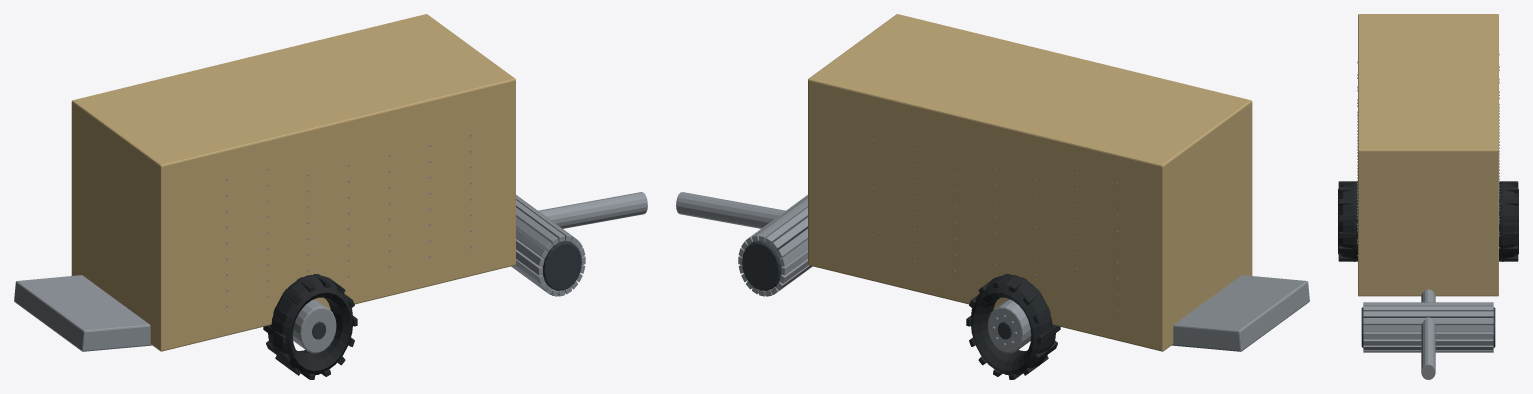
Rendered from new-holland-bigbaler-340-high-density-cropcutter-structural-study.glb.
3 views of the same model, side by side, from view 1: azimuth 30°, elevation 25°; view 2: azimuth 150°, elevation 25°; view 3: azimuth 270°, elevation 25° (orthographic). The views are drawn at different scales.
Visible parts, largest first — view 1: Bale_Chamber, Bale_Chute, Baler_R_Tire, Drawbar_Tube, Pickup_Reel, Baler_R_Rim; view 2: Bale_Chamber, Bale_Chute, Baler_L_Tire, Drawbar_Tube, Pickup_Reel, Baler_L_Rim; view 3: Bale_Chamber, Baler_L_Tire, Baler_R_Tire, Drawbar_Tube, Pickup_Tine_03, Pickup_Tine_01, Pickup_Tine_04, Pickup_Tine_02, Pickup_Tine_20, Pickup_Tine_05, Pickup_Tine_19, Pickup_Tine_06 (+2 smaller).
Part boxes in pixels (left/top/right/bottom): Bale_Chamber: left=71, top=14, right=515, bottom=351; Bale_Chute: left=14, top=275, right=151, bottom=351; Baler_R_Tire: left=268, top=275, right=352, bottom=375; Drawbar_Tube: left=538, top=192, right=647, bottom=228; Pickup_Reel: left=516, top=228, right=581, bottom=290; Baler_R_Rim: left=292, top=299, right=336, bottom=353; Bale_Chamber: left=808, top=14, right=1252, bottom=351; Bale_Chute: left=1172, top=275, right=1309, bottom=351; Baler_L_Tire: left=971, top=275, right=1055, bottom=375; Drawbar_Tube: left=676, top=192, right=785, bottom=228; Pickup_Reel: left=742, top=228, right=807, bottom=290; Baler_L_Rim: left=987, top=299, right=1031, bottom=353; Bale_Chamber: left=1358, top=14, right=1498, bottom=296; Baler_L_Tire: left=1499, top=181, right=1518, bottom=261; Baler_R_Tire: left=1338, top=181, right=1357, bottom=261; Drawbar_Tube: left=1421, top=289, right=1435, bottom=379; Pickup_Tine_03: left=1363, top=318, right=1493, bottom=325; Pickup_Tine_01: left=1363, top=332, right=1493, bottom=339; Pickup_Tine_04: left=1363, top=311, right=1493, bottom=317; Pickup_Tine_02: left=1363, top=325, right=1493, bottom=331; Pickup_Tine_20: left=1363, top=339, right=1493, bottom=345; Pickup_Tine_05: left=1363, top=306, right=1493, bottom=311; Pickup_Tine_19: left=1363, top=345, right=1493, bottom=350; Pickup_Tine_06: left=1363, top=303, right=1493, bottom=306.
Bounding box in the file's own units: 8.94 × 3.45 × 2.99.
